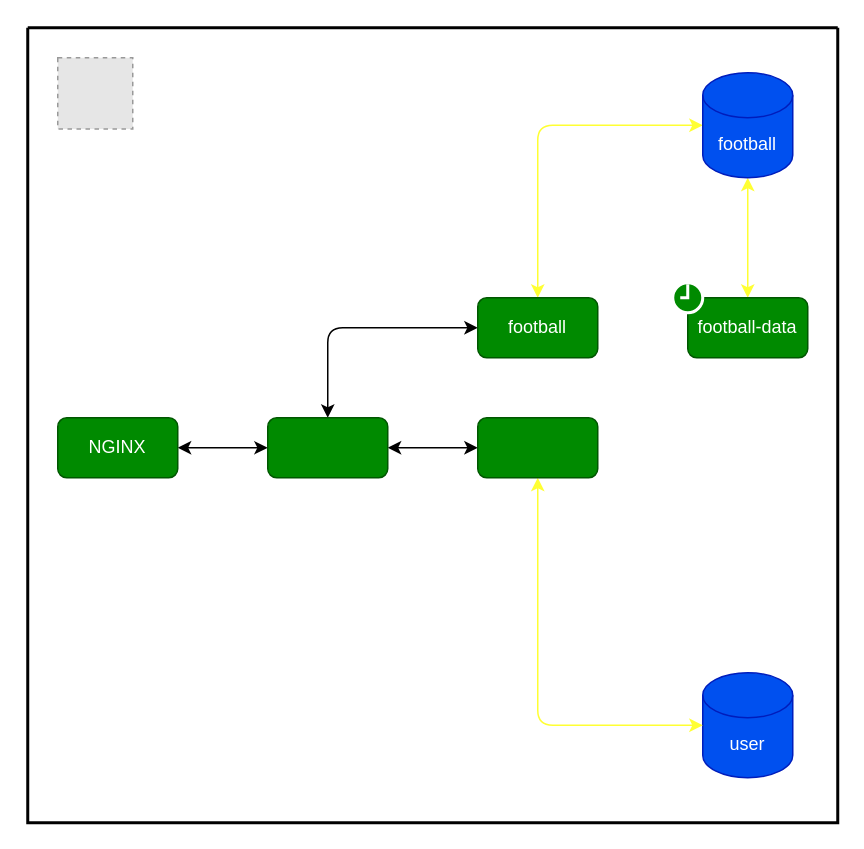
This 864x849 diagram has some shape labels left out. Grey dashed boxes stand in for pictures. Each missing label, with the centre of its shape:
auth: point (537, 447)
frontend: point (327, 447)
